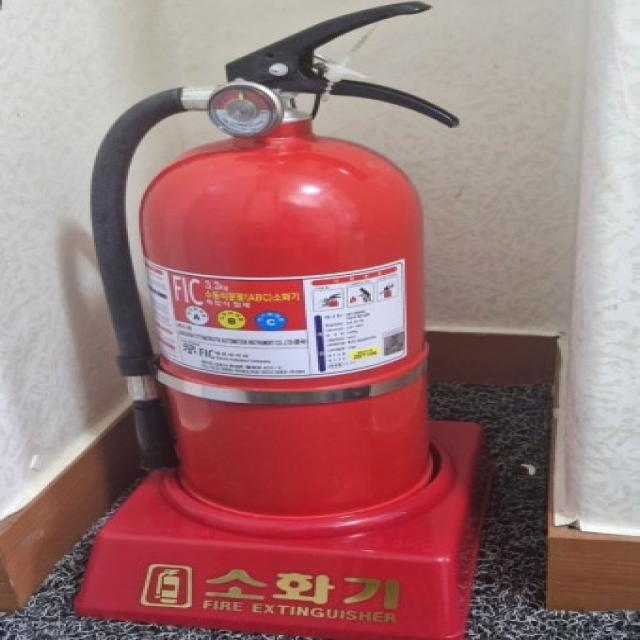pressure gauge: (209, 82, 279, 136)
